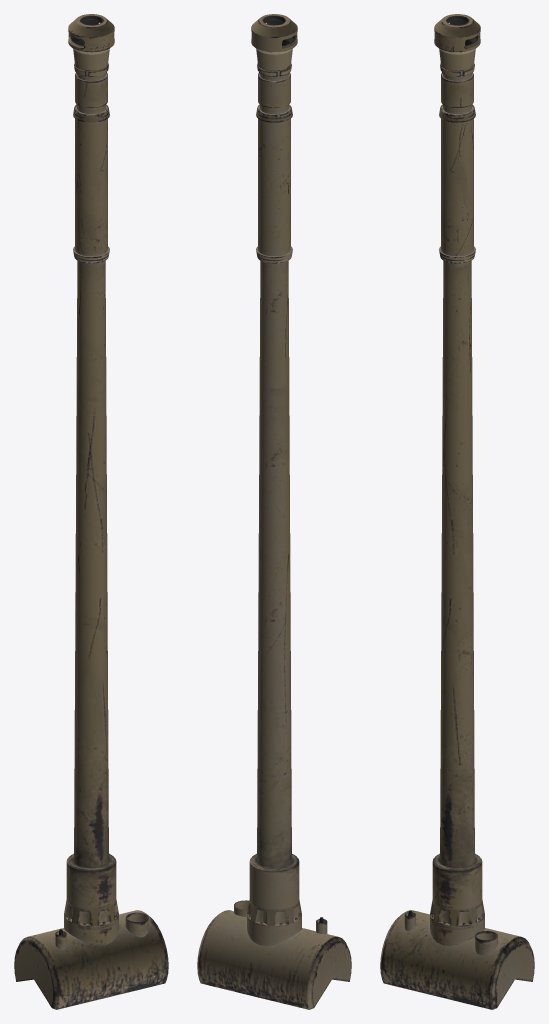
The model's file is Gun_04.glb.
The picture shows the model from 3 angles, left to right: view 1: azimuth 30°, elevation 25°; view 2: azimuth 150°, elevation 25°; view 3: azimuth 330°, elevation 25°; orthographic projection.
Visible parts, largest first — view 1: set_0_group_0; view 2: set_0_group_0; view 3: set_0_group_0.
Part boxes in pixels (<box>): set_0_group_0: <box>14,14,168,1009</box>; set_0_group_0: <box>197,14,351,1009</box>; set_0_group_0: <box>380,14,534,1009</box>.
Bounding box in the file's own units: 0.8 × 6.39 × 0.52.
Materials: 1 (1 with a texture image).
